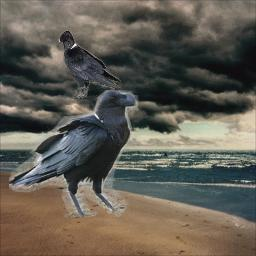Crow: (9, 90, 139, 217), (58, 30, 122, 101)
